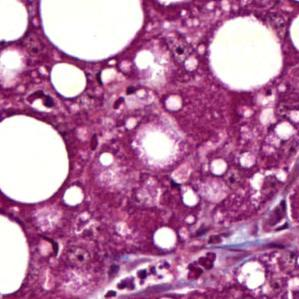steatosis: (208, 15, 282, 96), (50, 62, 86, 102)
